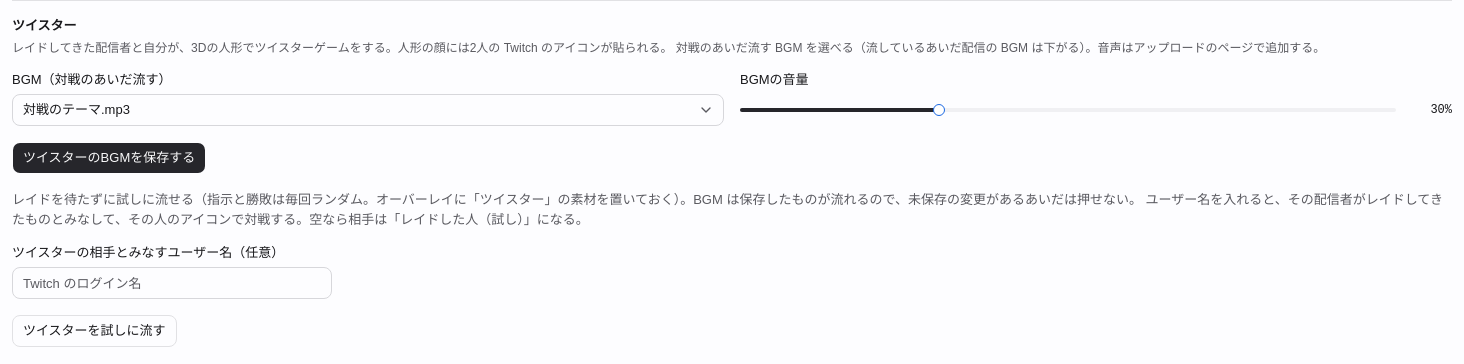
it: TwisterCard › 未保存の変更があるあいだは試し再生を押せない（試し再生は保存済みの BGM で流れ、選び直した BGM と食い違うため）
Step 1. Select "ジャジャーン.mp3" in the dropdown labelled "BGM（対戦のあいだ流す）" → [368, 110], box x1=12 y1=94 x2=724 y2=126
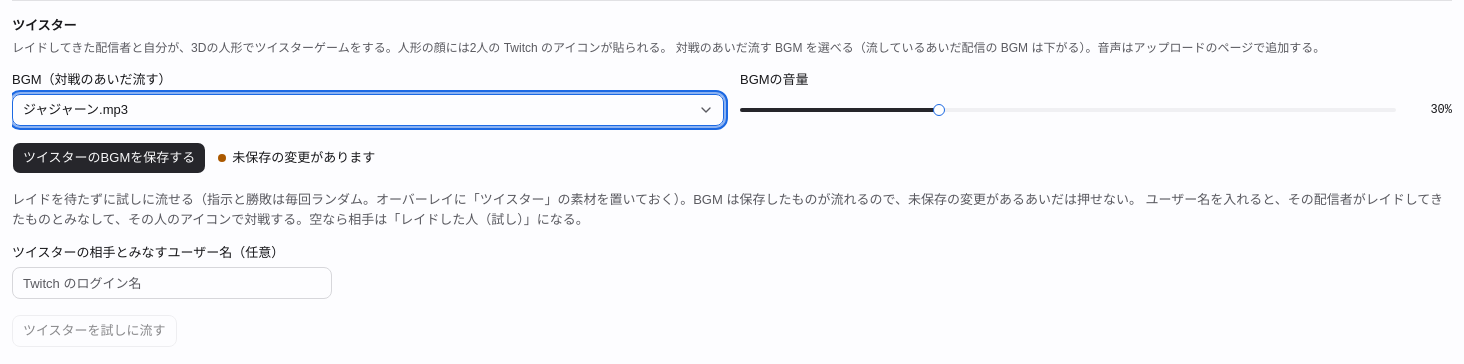
Expected: the button "ツイスターを試しに流す" is disabled, x1=12 y1=315 x2=177 y2=347
